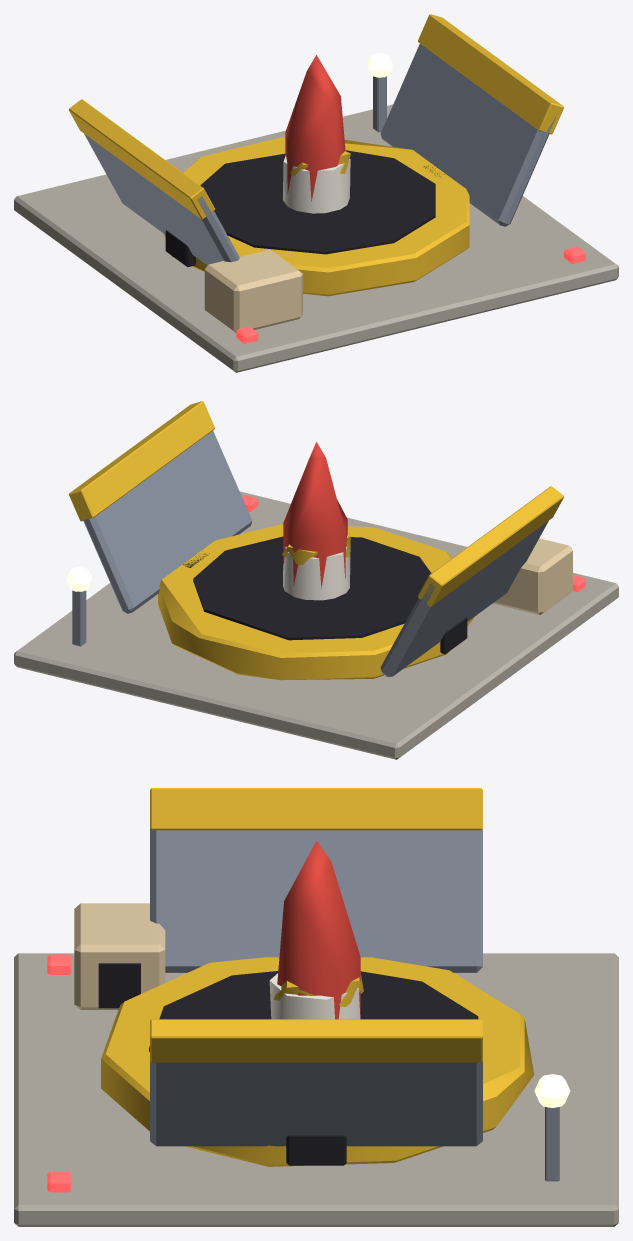
File: missile_silo.glb
3 views of the same model, one above another, from view 1: azimuth 30°, elevation 25°; view 2: azimuth 150°, elevation 25°; view 3: azimuth 270°, elevation 25° (orthographic). The views are drawn at different scales.
Visible parts, largest first — view 1: missile_silo; view 2: missile_silo; view 3: missile_silo.
Boxes of the visible parts, left/top/right/bottom form: missile_silo: left=14, top=14, right=618, bottom=372; missile_silo: left=14, top=401, right=618, bottom=759; missile_silo: left=14, top=788, right=618, bottom=1226.
Bounding box in the file's own units: 20 × 9.5 × 20.
1 material, 1 textured.
